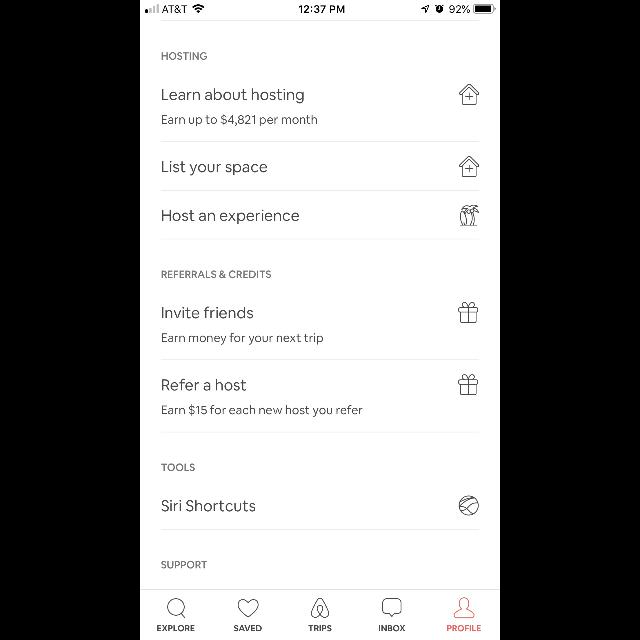icon: (458, 374, 478, 396), (458, 302, 478, 324), (459, 156, 479, 178), (459, 84, 479, 105), (382, 598, 402, 618), (454, 598, 474, 618), (168, 598, 186, 618), (238, 599, 258, 617)
image: (459, 204, 478, 226), (459, 496, 479, 516), (311, 598, 329, 618)
text: (162, 404, 362, 416), (162, 88, 304, 104), (162, 333, 324, 345), (162, 210, 300, 224), (162, 114, 318, 126), (162, 160, 268, 176), (162, 500, 256, 512), (162, 306, 254, 318), (162, 379, 246, 391), (162, 270, 272, 278), (161, 52, 207, 60), (161, 561, 207, 569), (161, 463, 195, 471), (158, 625, 195, 631), (447, 625, 481, 631), (234, 625, 262, 631), (379, 625, 405, 631), (308, 625, 332, 631)
uppertaskbar: (140, 0, 500, 14)
